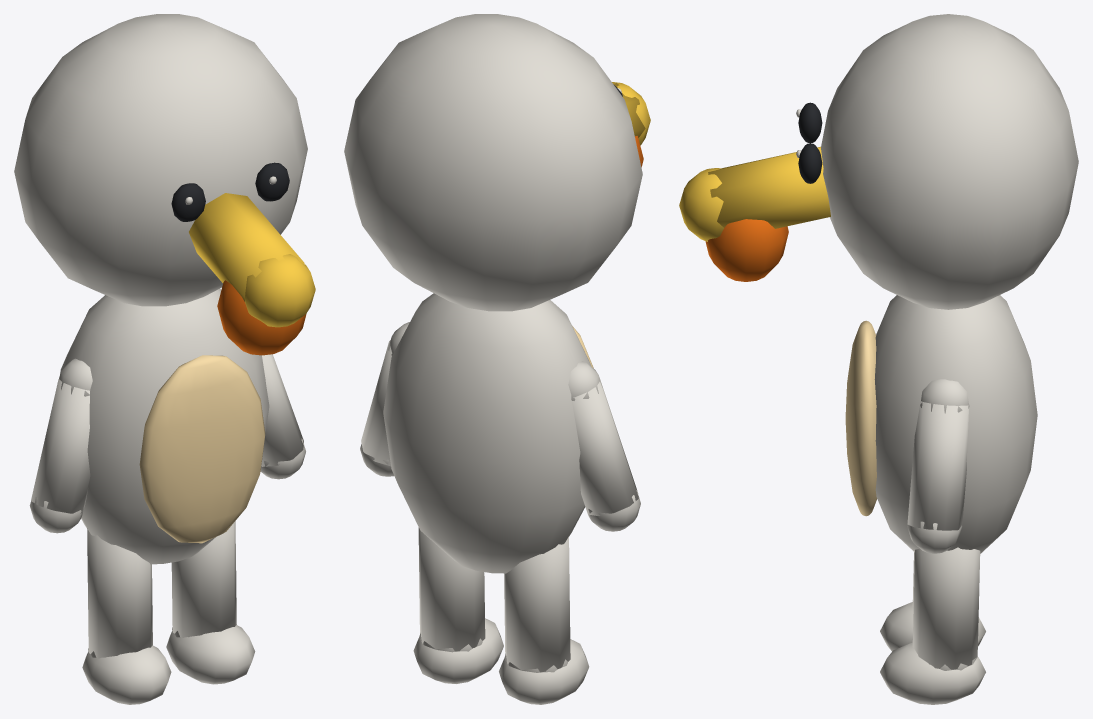
Rendered from pelican.glb.
3 views of the same model, side by side, from view 1: azimuth 30°, elevation 25°; view 2: azimuth 150°, elevation 25°; view 3: azimuth 270°, elevation 25° (orthographic). The views are drawn at different scales.
Visible parts, largest first — view 1: Asset.pelican; view 2: Asset.pelican; view 3: Asset.pelican.
Boxes of the visible parts, x1,y1,x2,y2 form: Asset.pelican: (14,14,315,704); Asset.pelican: (344,14,650,704); Asset.pelican: (679,14,1078,704).
Bounding box in the file's own units: 1.8 × 4.19 × 2.33.
